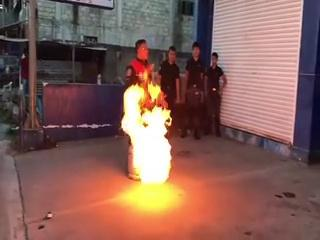Fire: (118, 82, 173, 187)
